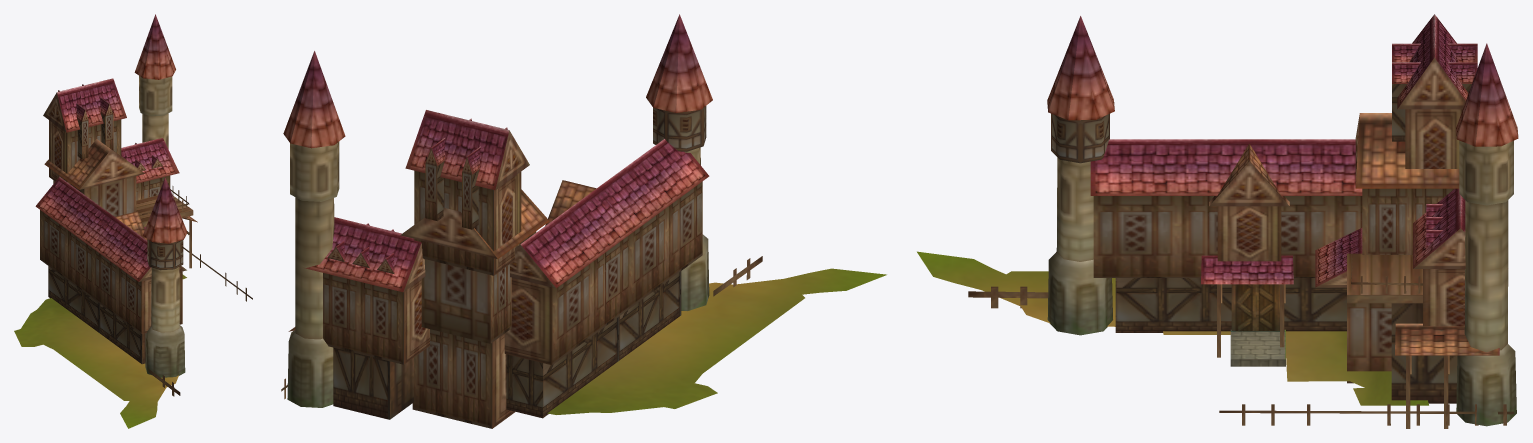
The model's file is Barracks_Level03.FBX.
The picture shows the model from 3 angles, left to right: view 1: azimuth 30°, elevation 25°; view 2: azimuth 150°, elevation 25°; view 3: azimuth 270°, elevation 25°; orthographic projection. The views are drawn at different scales.
Visible parts, largest first — view 1: Barracks_Level03; view 2: Barracks_Level03; view 3: Barracks_Level03.
Boxes of the visible parts, left/top/right/bottom form: Barracks_Level03: left=14, top=14, right=252, bottom=428; Barracks_Level03: left=281, top=14, right=886, bottom=428; Barracks_Level03: left=917, top=14, right=1518, bottom=428.
Bounding box in the file's own units: 1097 × 1123 × 1609.
